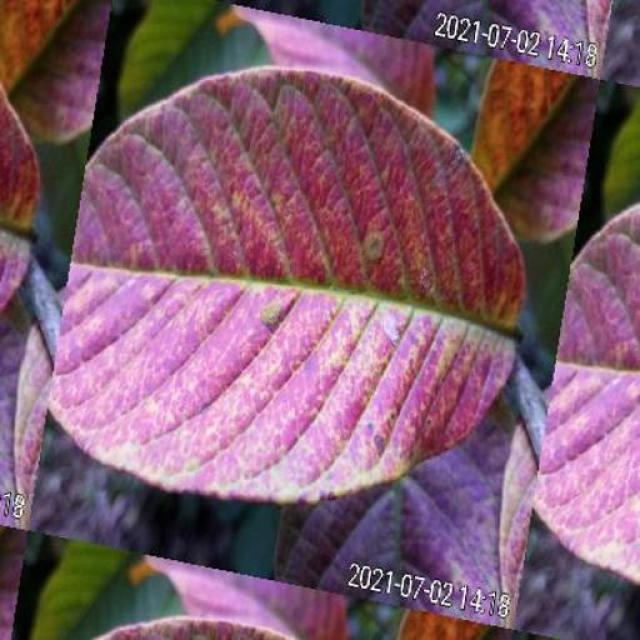Rust: (50, 8, 640, 626), (369, 0, 610, 241), (0, 0, 109, 323), (0, 296, 52, 528)
